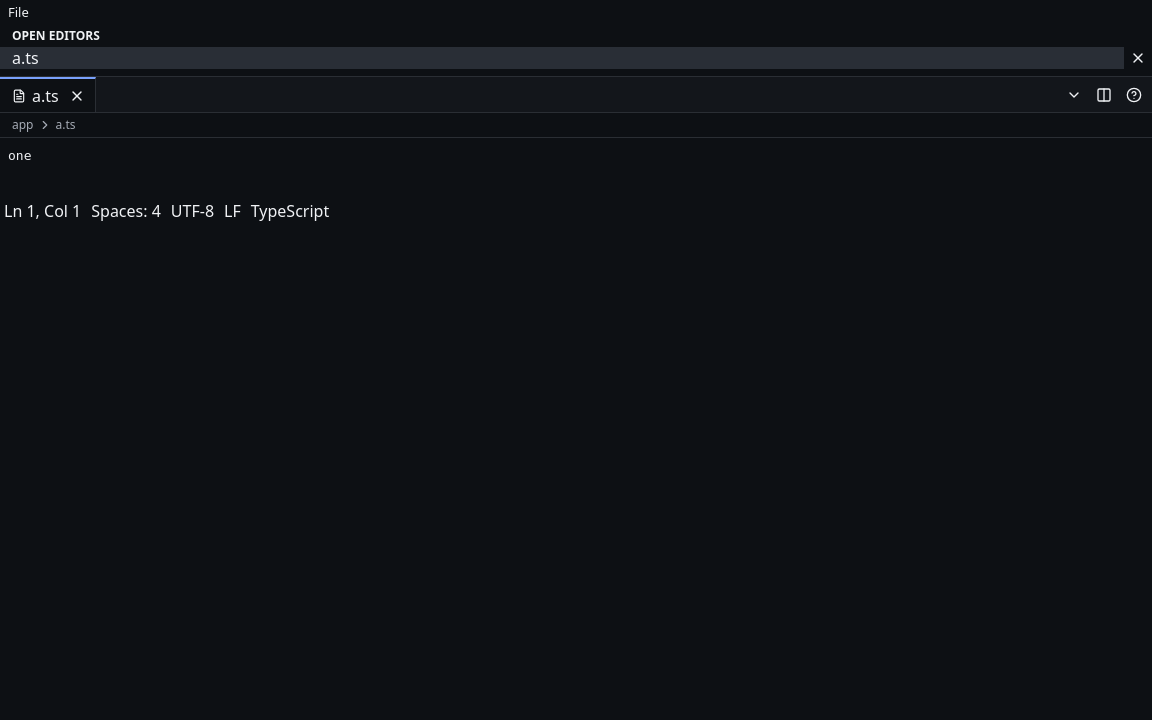
saving — plan 07, B-34 › reloads from the conflict, dropping the changes, and Esc puts the question off
The width and height of the screenshot is (1152, 720).
Replace the text in the text box named "Editor of a.ts" with "mine" at (576, 168), box [0,138,1151,199]
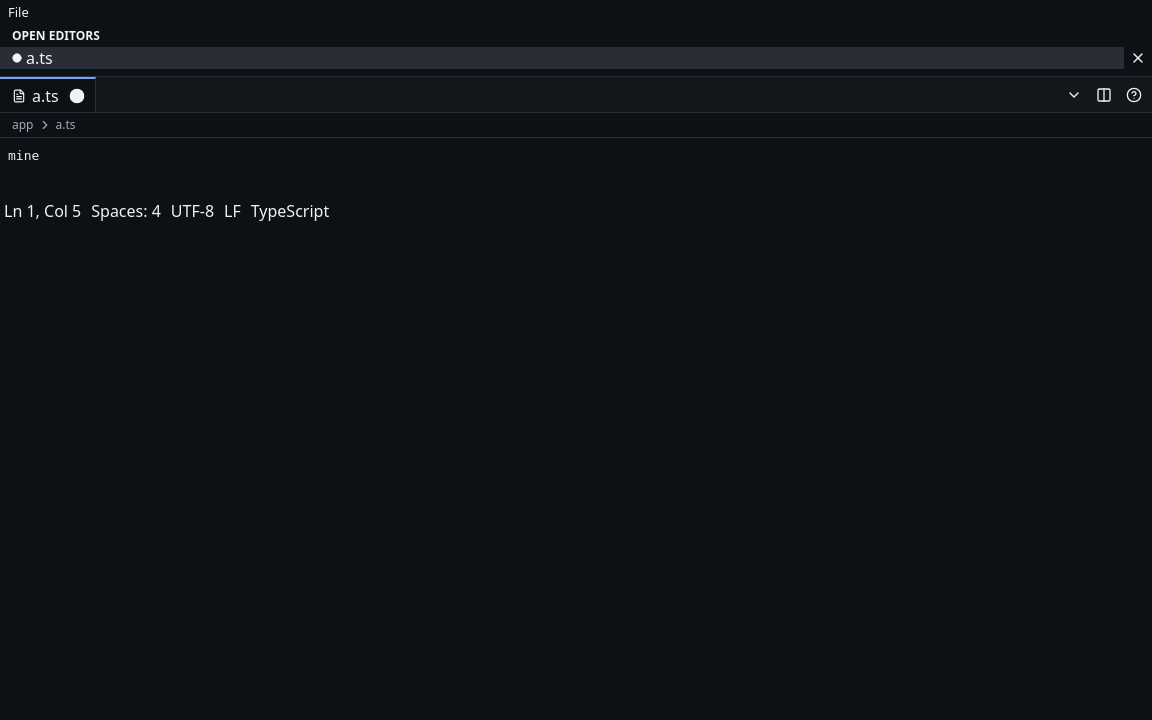
Press s in the text box named "Editor of a.ts", box [0,138,1151,199]
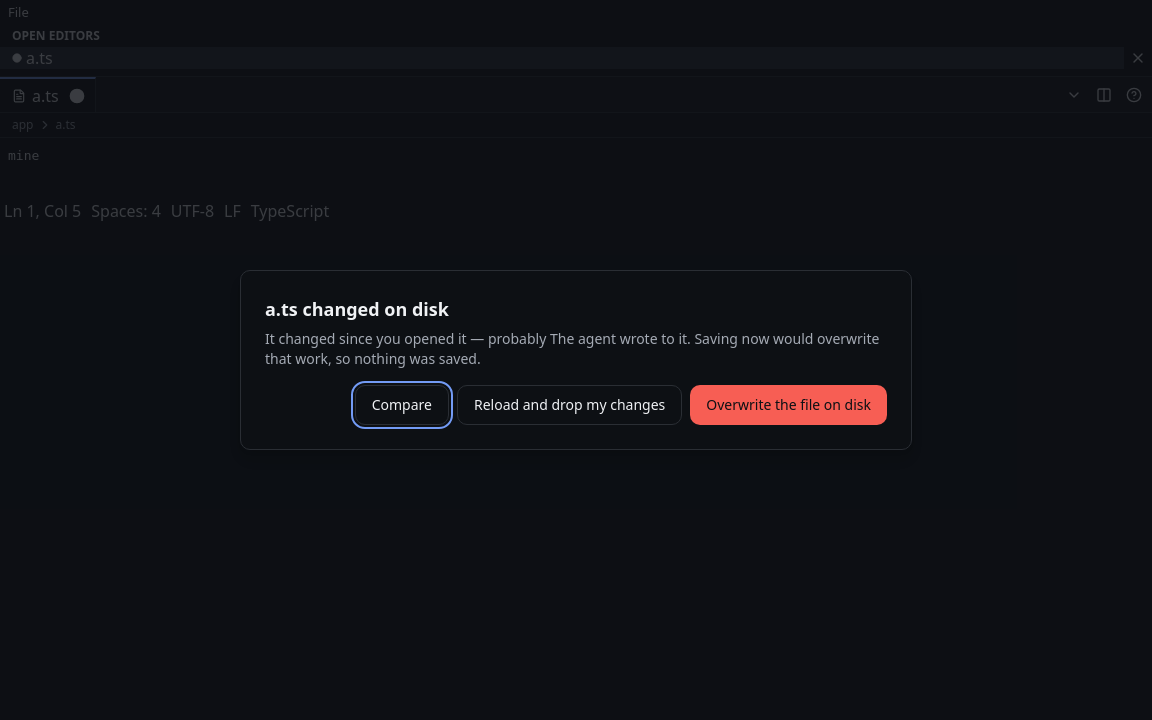
Check: the dialog is shown, box [240,270,912,450]
Press Escape
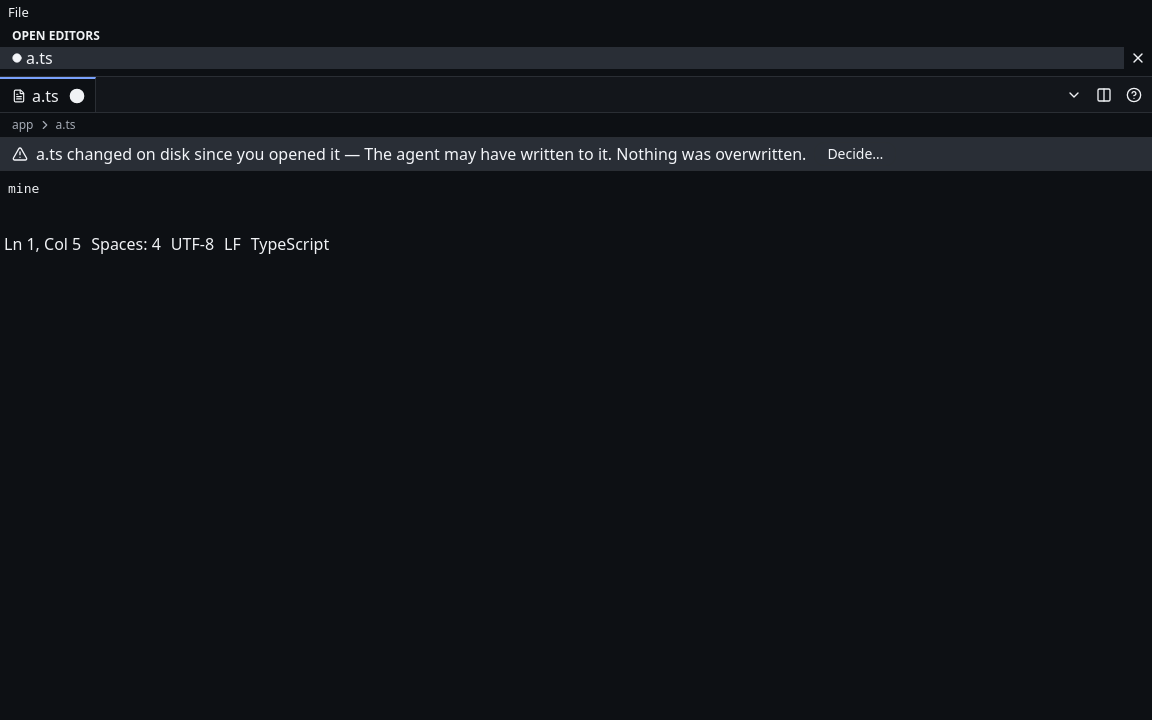
Check: the button "Decide…" is shown
Click the button "Decide…".
click(855, 154)  # box [814,142,896,166]
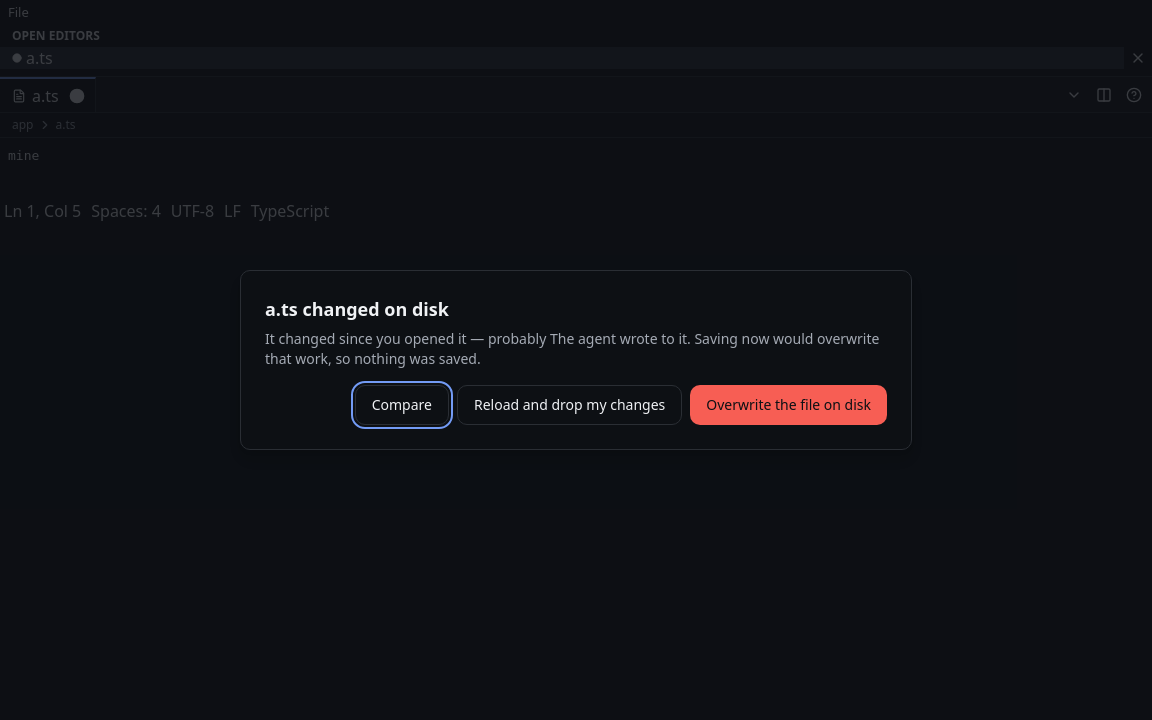
Click the button "Reload and drop my changes".
click(570, 405)  # box [457,385,682,425]
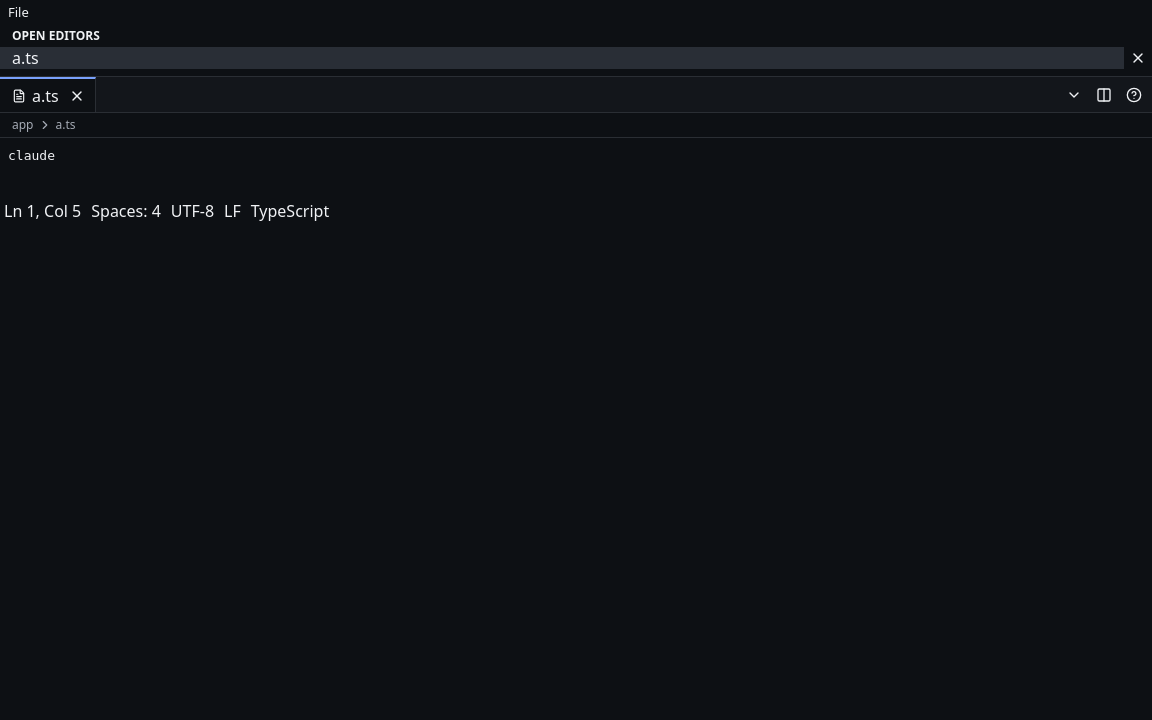
Check: the text box named "Editor of a.ts" holds "claude", box [0,138,1151,199]
